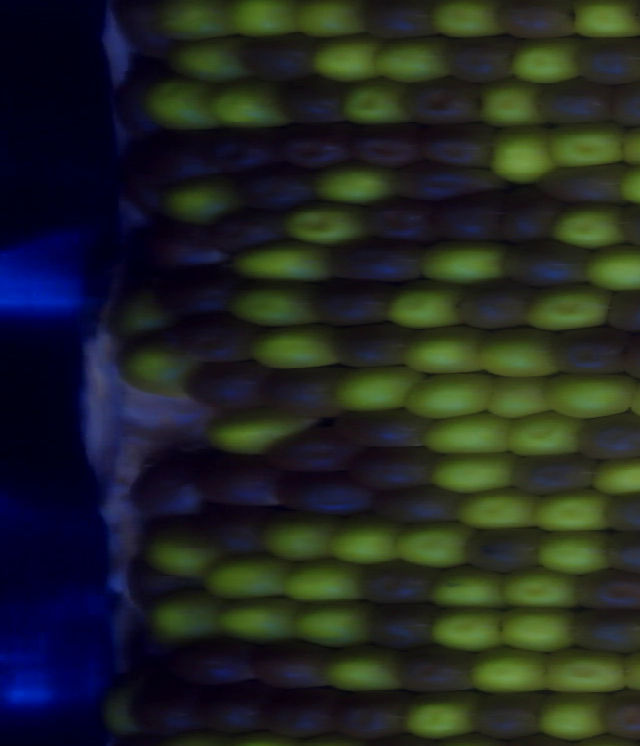fluorescent: (112, 327, 208, 404), (201, 401, 320, 459), (132, 516, 233, 583), (219, 232, 338, 286), (195, 548, 300, 609), (155, 170, 252, 234), (246, 319, 350, 378), (468, 322, 567, 383), (395, 367, 499, 425), (251, 505, 345, 569), (410, 232, 515, 289), (380, 275, 475, 337), (138, 71, 227, 137), (521, 279, 623, 336), (275, 551, 375, 609), (222, 279, 332, 331), (542, 367, 640, 425), (541, 641, 638, 699), (157, 35, 259, 90), (322, 509, 408, 574), (143, 588, 233, 649), (275, 193, 373, 249), (200, 76, 293, 135), (396, 319, 487, 379), (318, 639, 409, 699), (368, 31, 462, 89), (287, 596, 381, 654), (449, 479, 548, 534), (330, 361, 427, 417), (389, 515, 483, 572), (211, 592, 305, 649), (309, 156, 408, 210), (102, 278, 176, 350), (423, 445, 521, 499), (415, 406, 514, 459), (464, 642, 558, 697), (421, 560, 514, 615), (484, 119, 557, 189), (495, 599, 582, 657), (545, 116, 635, 171), (471, 74, 554, 133), (498, 559, 585, 615), (528, 483, 618, 537), (400, 687, 486, 743), (500, 408, 591, 460), (481, 369, 566, 424), (507, 32, 589, 89), (303, 31, 385, 88), (540, 200, 628, 253), (425, 601, 508, 657), (531, 527, 615, 582), (534, 687, 612, 746), (152, 1, 240, 50), (336, 76, 415, 130), (87, 670, 147, 739), (219, 1, 308, 44), (578, 236, 640, 297), (426, 1, 511, 45), (285, 1, 374, 42), (568, 1, 640, 45), (587, 449, 640, 502)
nonfluorescent: (270, 461, 385, 523), (389, 156, 514, 213), (133, 212, 231, 281), (121, 672, 219, 740), (194, 447, 288, 515), (121, 454, 212, 524), (177, 357, 278, 419), (254, 680, 355, 741), (167, 629, 264, 691), (327, 402, 439, 454), (195, 673, 280, 741), (245, 637, 346, 694), (389, 639, 483, 700), (155, 258, 243, 323), (499, 236, 600, 292), (505, 445, 605, 501), (119, 549, 206, 613), (326, 684, 415, 746), (107, 134, 174, 216), (165, 310, 263, 366), (367, 477, 468, 530), (233, 30, 323, 89), (256, 363, 343, 424), (258, 425, 356, 479), (326, 319, 415, 378), (305, 276, 404, 329), (190, 500, 276, 561), (460, 523, 553, 579), (317, 236, 428, 282), (205, 121, 293, 179), (449, 275, 537, 333), (527, 160, 631, 209), (229, 161, 319, 217), (105, 60, 167, 141), (425, 188, 510, 247), (359, 190, 443, 249), (349, 439, 440, 493), (530, 72, 616, 129), (549, 322, 630, 382), (139, 125, 219, 185), (491, 181, 567, 244), (116, 616, 185, 685), (356, 554, 438, 612), (417, 120, 505, 173), (441, 31, 521, 89), (202, 203, 292, 254), (398, 75, 482, 129), (360, 599, 442, 654), (559, 605, 640, 660), (275, 122, 361, 173), (468, 689, 554, 740), (111, 1, 180, 63), (275, 74, 351, 129), (485, 1, 582, 44), (346, 121, 431, 170), (571, 33, 640, 92), (576, 408, 640, 466), (355, 1, 438, 43), (572, 563, 640, 612), (592, 681, 640, 741), (597, 523, 640, 583), (596, 483, 640, 539), (599, 284, 640, 339), (607, 76, 640, 133)
